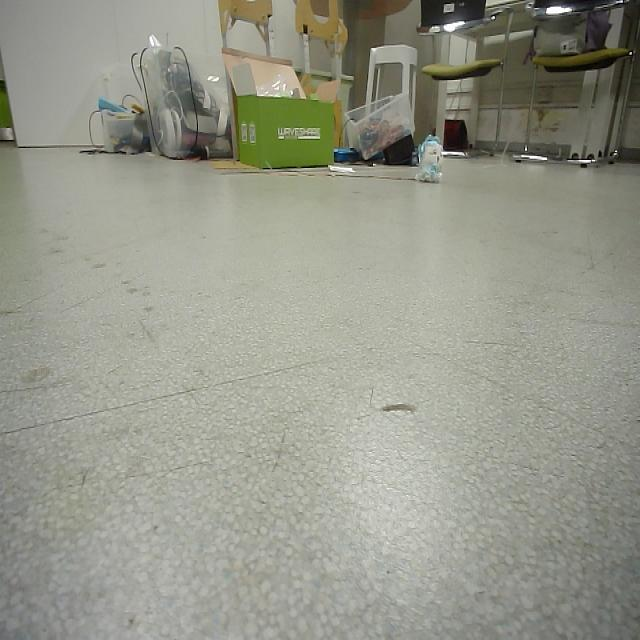xiaoba: (417, 133, 446, 184)
